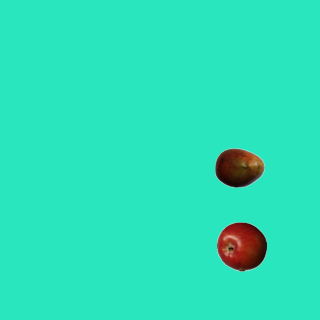Apple Braeburn: (216, 221, 266, 271)
Mango Red: (214, 142, 264, 192)
